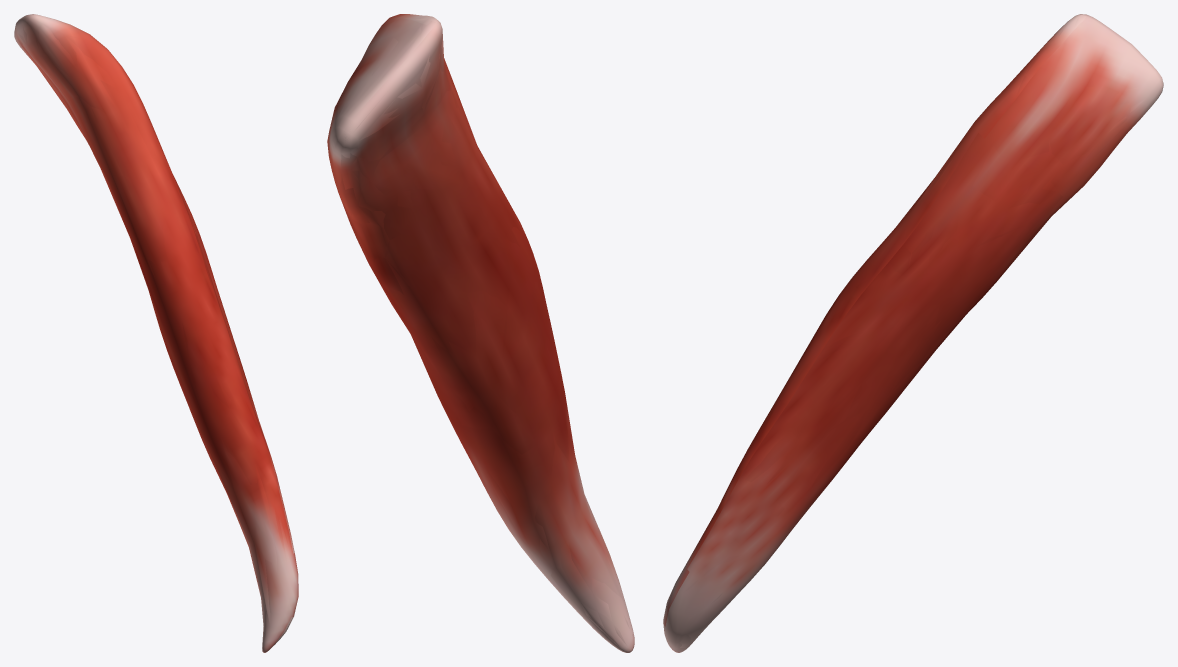
File: L Infaspinatus.fbx
The picture shows the model from 3 angles, left to right: view 1: azimuth 30°, elevation 25°; view 2: azimuth 150°, elevation 25°; view 3: azimuth 270°, elevation 25°; orthographic projection. The views are drawn at different scales.
Visible parts, largest first — view 1: L Infaspinatus, L Infaspinatus low; view 2: L Infaspinatus, L Infaspinatus low; view 3: L Infaspinatus, L Infaspinatus low.
Boxes of the visible parts, x1=… form: L Infaspinatus: x1=14, y1=14, x2=298, y2=652; L Infaspinatus low: x1=14, y1=16, x2=298, y2=645; L Infaspinatus: x1=327, y1=14, x2=634, y2=652; L Infaspinatus low: x1=327, y1=14, x2=633, y2=646; L Infaspinatus: x1=663, y1=14, x2=1163, y2=652; L Infaspinatus low: x1=670, y1=16, x2=1156, y2=647.
Size of the model in its own units: 8.38 by 39.72 by 29.72.
